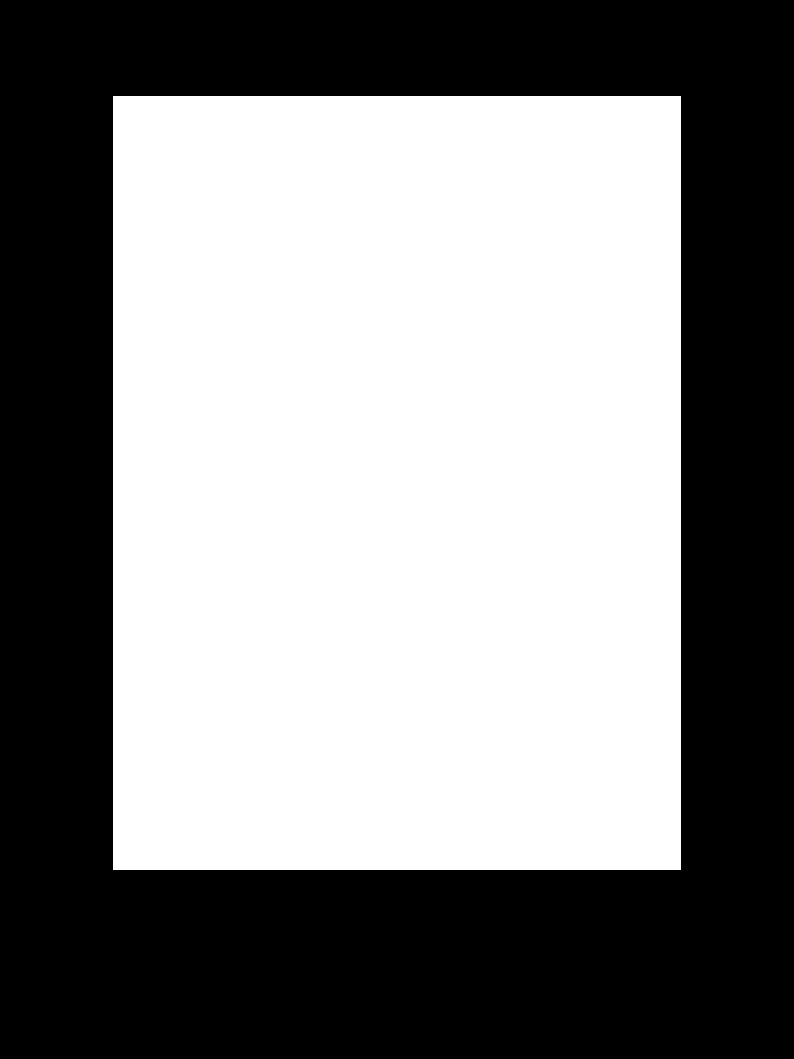table: (113, 96, 680, 869)
